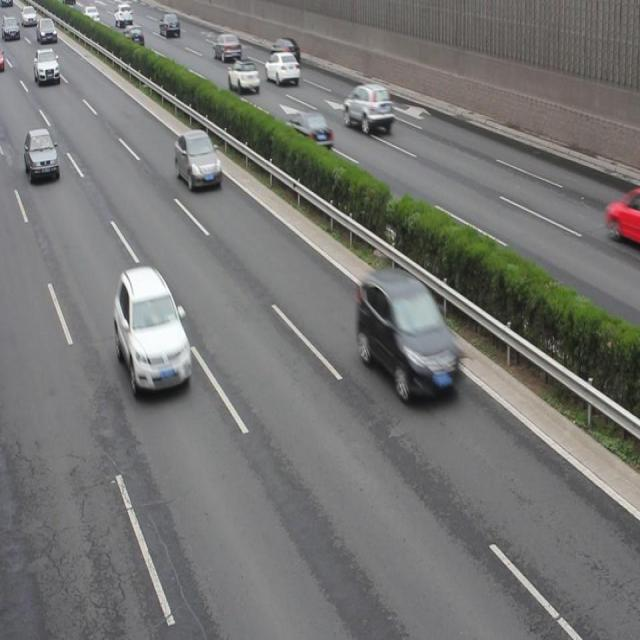car: (358, 264, 461, 402), (114, 266, 190, 397), (175, 129, 222, 190), (344, 81, 392, 136), (285, 111, 333, 154), (24, 129, 59, 182), (266, 52, 300, 87), (229, 58, 259, 93), (34, 49, 60, 83), (271, 38, 300, 67), (214, 33, 240, 63), (160, 14, 180, 40), (124, 26, 145, 50)
